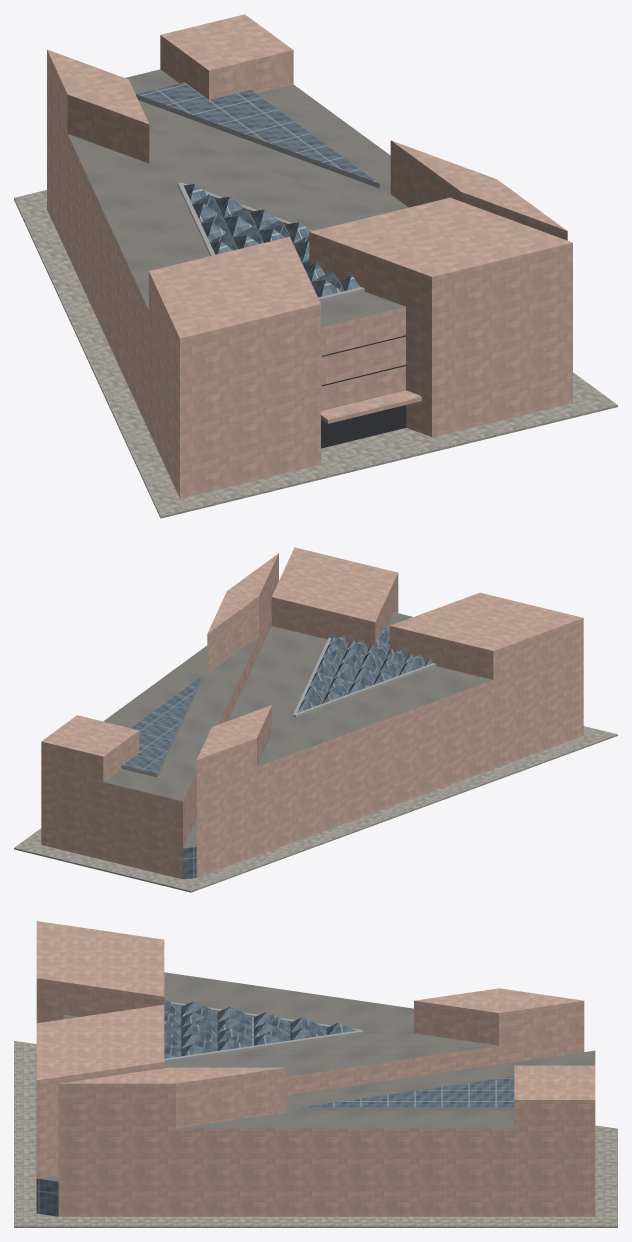
Rendered from national_gallery_east.glb.
The picture shows the model from 3 angles, top to bottom: view 1: azimuth 30°, elevation 25°; view 2: azimuth 150°, elevation 25°; view 3: azimuth 270°, elevation 25°; orthographic projection. The views are drawn at different scales.
Parts seen in each view (by area): view 1: national_gallery_east; view 2: national_gallery_east; view 3: national_gallery_east.
Part boxes in pixels (x1=…): national_gallery_east: x1=14, y1=14, x2=617, y2=518; national_gallery_east: x1=14, y1=547, x2=617, y2=892; national_gallery_east: x1=14, y1=921, x2=617, y2=1227.
Size of the model in its own units: 97.4 by 32.99 by 134.
5 materials, 5 textured.
